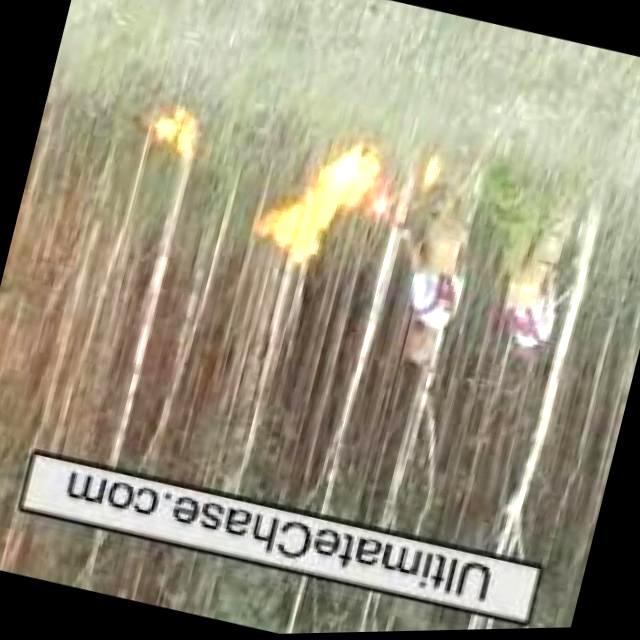fire: (251, 123, 377, 269), (142, 100, 204, 154)
